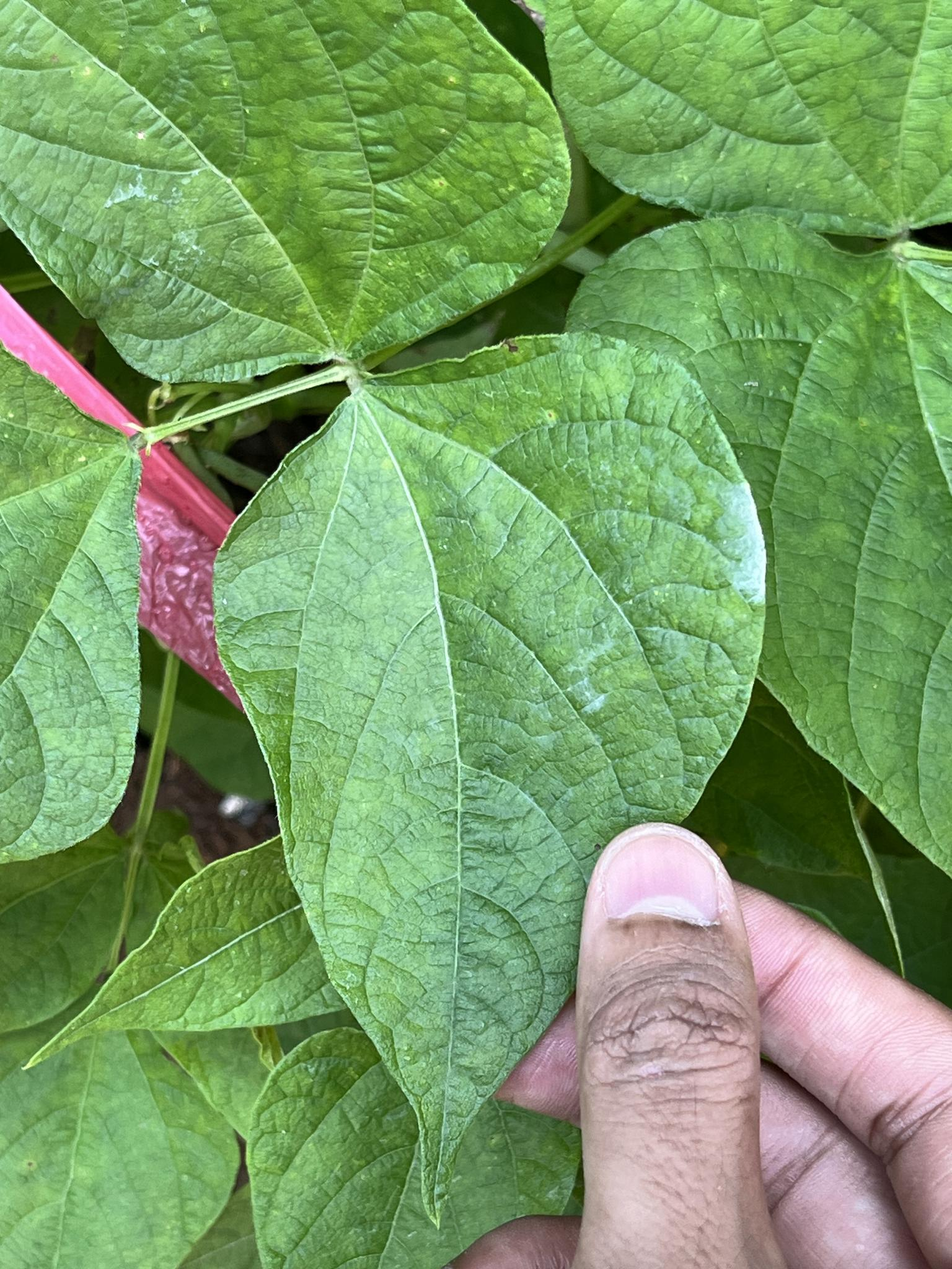embun tepung: (715, 471, 767, 625), (555, 625, 624, 728), (110, 169, 165, 213)
